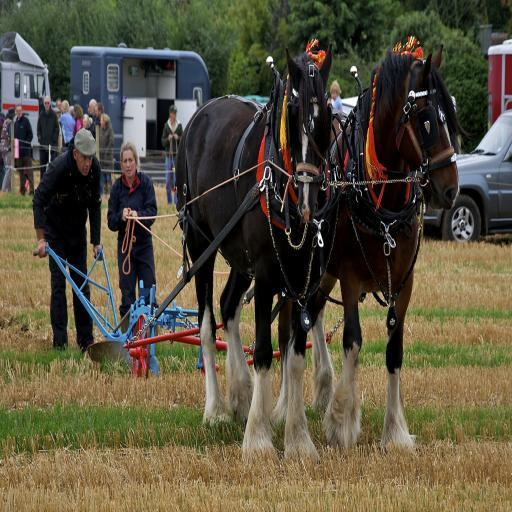horse: (174, 36, 332, 460), (324, 36, 472, 454)
